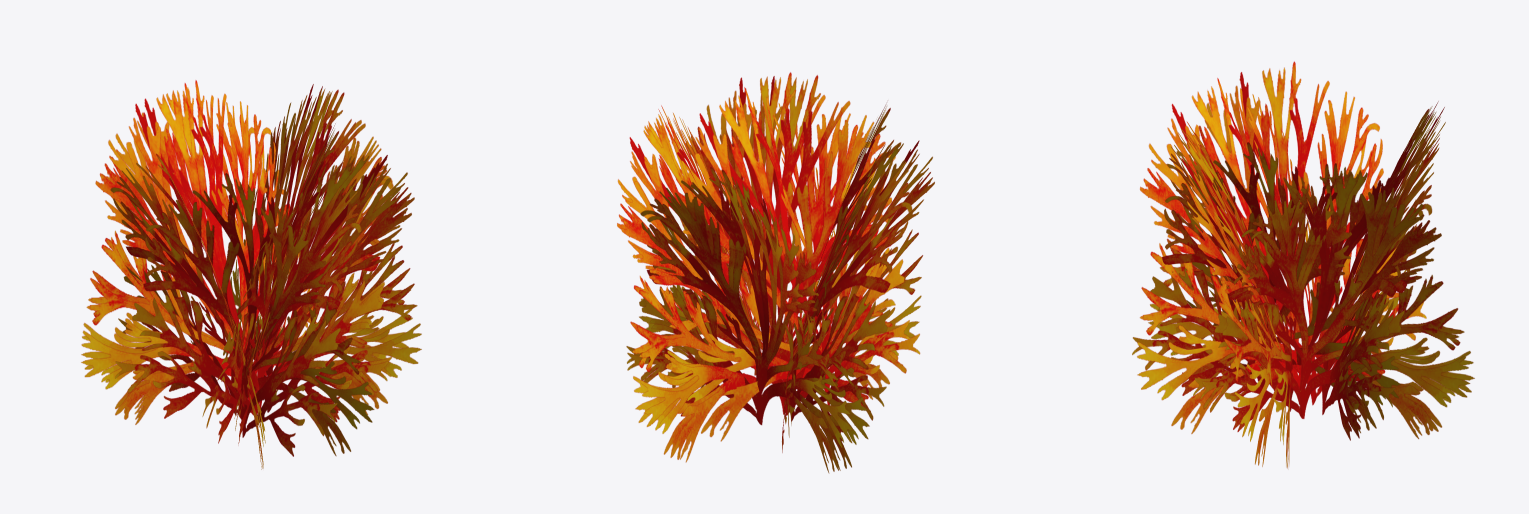
File: algae_02.glb
The picture shows the model from 3 angles, left to right: view 1: azimuth 30°, elevation 25°; view 2: azimuth 150°, elevation 25°; view 3: azimuth 270°, elevation 25°; orthographic projection. The views are drawn at different scales.
Parts seen in each view (by area): view 1: pPlane17; view 2: pPlane17; view 3: pPlane17.
Boxes of the visible parts, x1,y1,x2,y2 form: pPlane17: [81, 80, 421, 469]; pPlane17: [617, 72, 934, 473]; pPlane17: [1132, 61, 1474, 468].
Bounding box in the file's own units: 1.26 × 1 × 1.32.
1 material, 1 textured.
